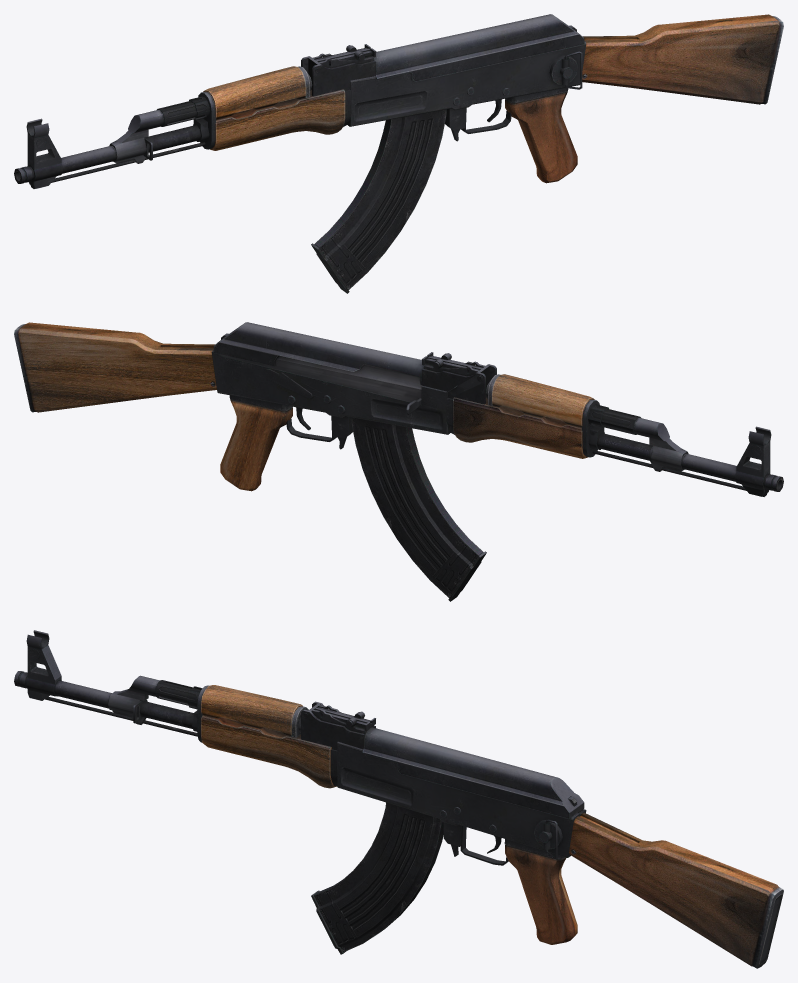
The picture shows the model from 3 angles, top to bottom: view 1: azimuth 30°, elevation 25°; view 2: azimuth 150°, elevation 25°; view 3: azimuth 330°, elevation 25°; orthographic projection.
Visible parts, largest first — view 1: AK-47; view 2: AK-47; view 3: AK-47.
Boxes of the visible parts, x1,y1,x2,y2 form: AK-47: [14, 14, 783, 293]; AK-47: [14, 322, 783, 601]; AK-47: [14, 630, 783, 968].
Size of the model in its own units: 427 by 130 by 31.82.
